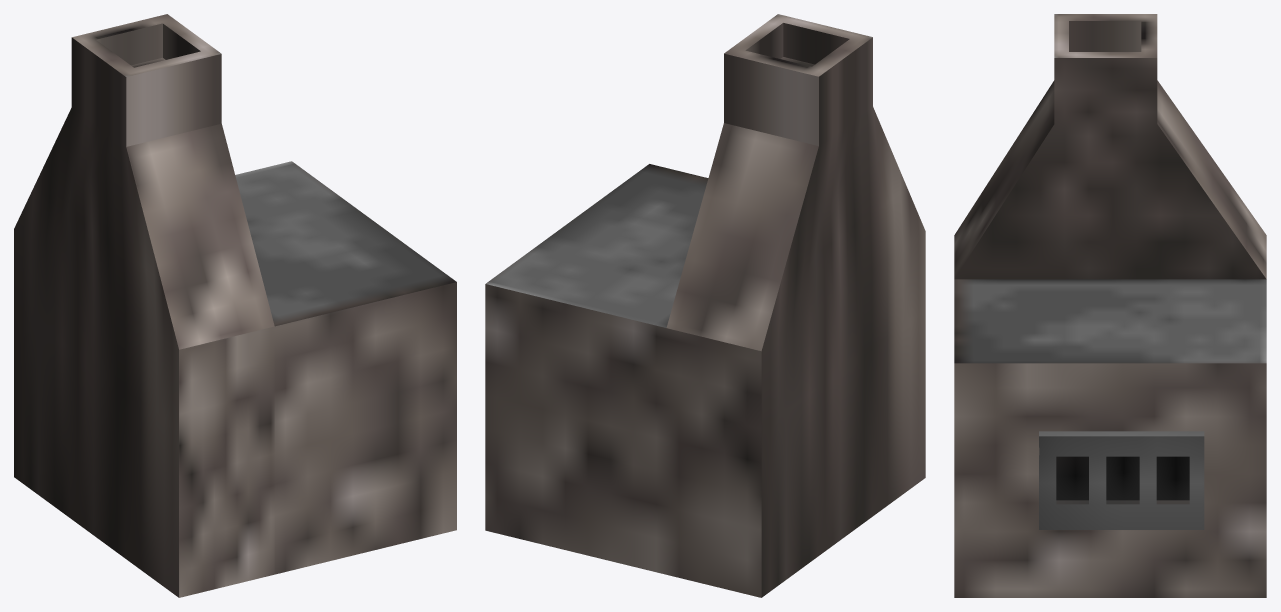
Rendered from stove_664x00.obj.
3 renders of one model, left to right at view 1: azimuth 30°, elevation 25°; view 2: azimuth 150°, elevation 25°; view 3: azimuth 270°, elevation 25°, orthographic. The views are drawn at different scales.
Parts seen in each view (by area): view 1: Stove_633x0; view 2: Stove_633x0; view 3: Stove_633x0.
Part boxes in pixels (<box>): Stove_633x0: <box>14,14,456,597</box>; Stove_633x0: <box>485,14,925,597</box>; Stove_633x0: <box>954,14,1266,597</box>.
Bounding box in the file's own units: 1.88 × 3.01 × 1.87.
